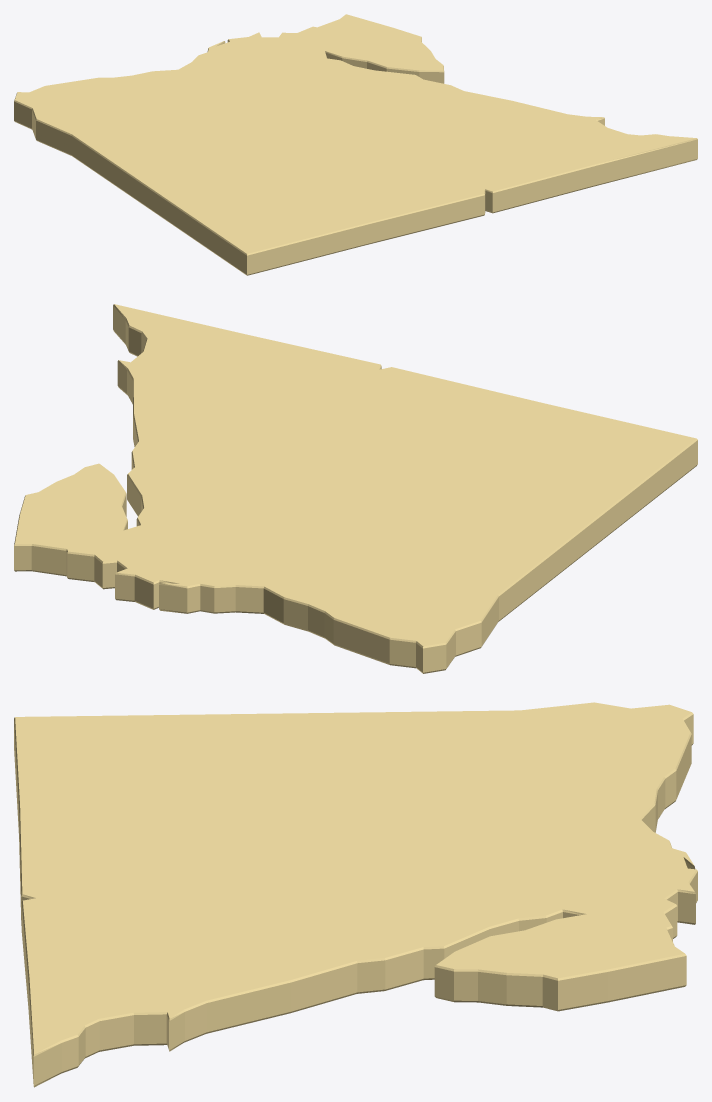
File: EGY.glb
The picture shows the model from 3 angles, top to bottom: view 1: azimuth 30°, elevation 25°; view 2: azimuth 150°, elevation 25°; view 3: azimuth 270°, elevation 25°; orthographic projection. The views are drawn at different scales.
Size of the model in its own units: 1.56 by 0.068 by 1.27.
